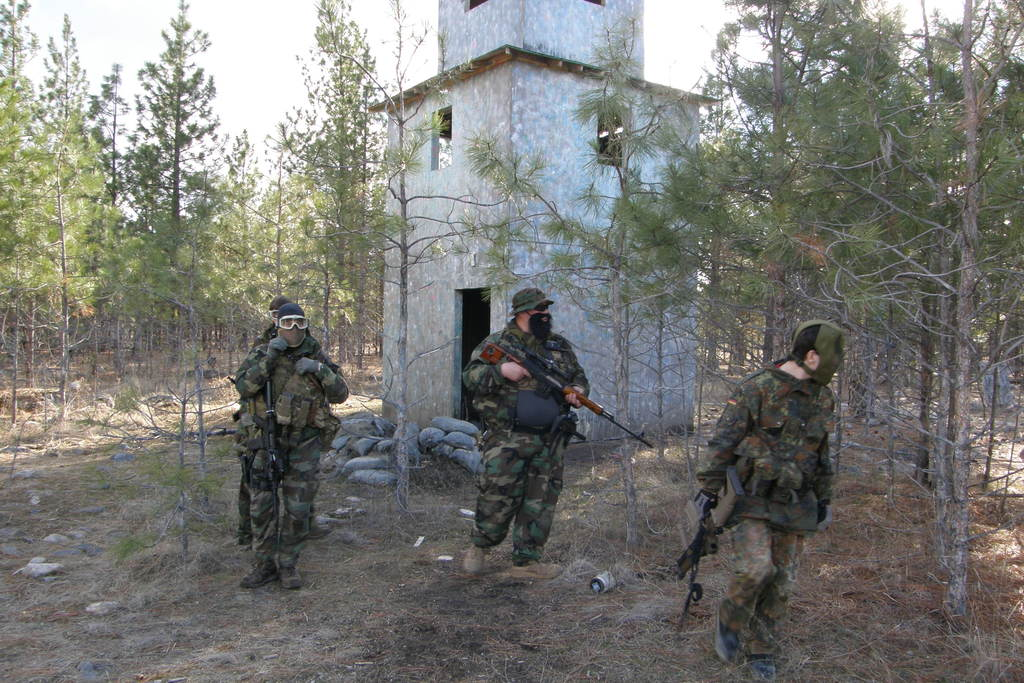Person: (696, 320, 846, 682), (462, 287, 590, 579), (236, 295, 349, 588)
